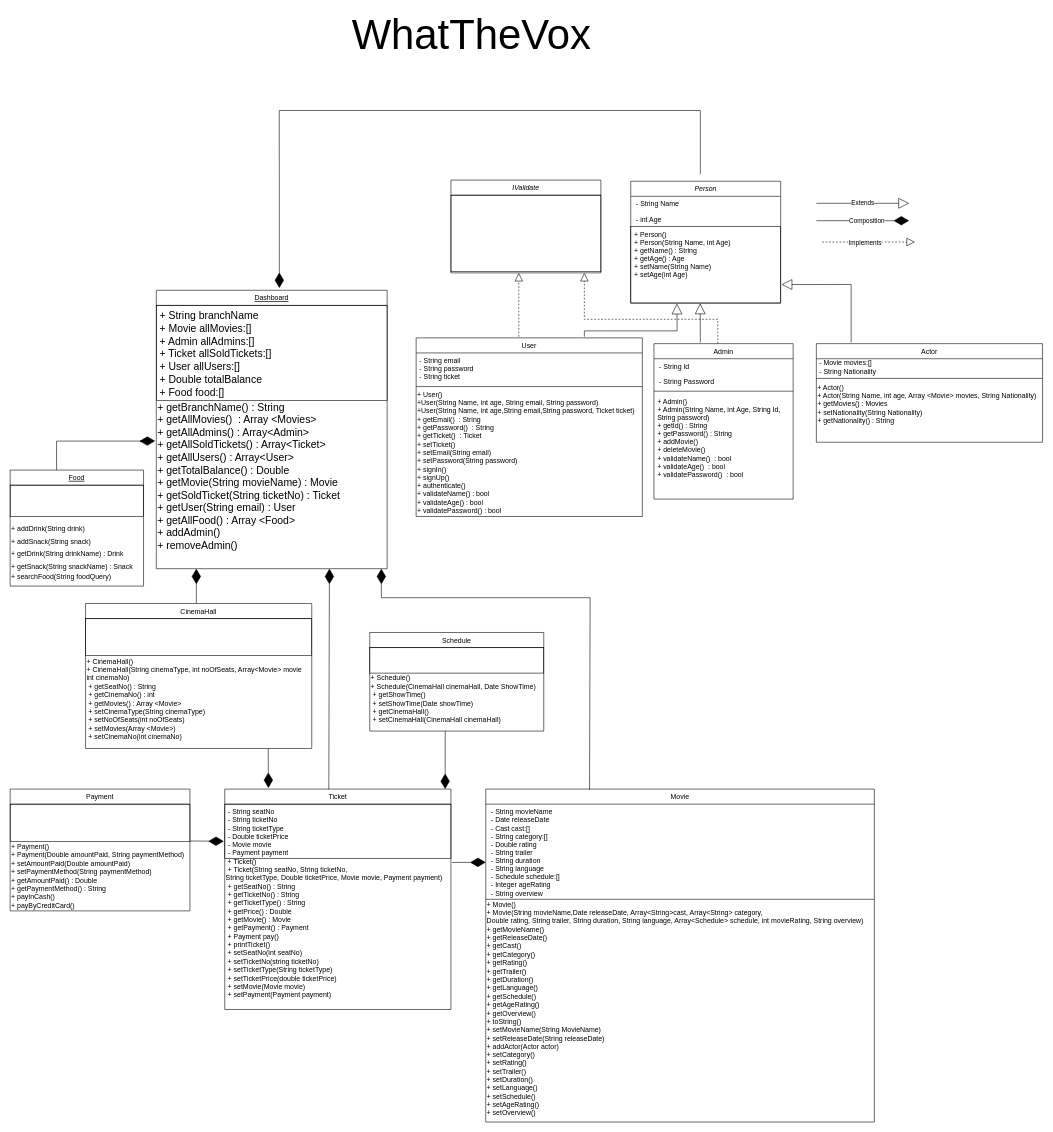
Image size: 1053x1132. Some labels were removed from this diagram. The shapes that lost their labels are listed below. From the top down, each one's centre as x and y in pixels, then its label:
At pixel 525 233: "+ validateName() + validateAge() + validatePassword()".
At pixel 77 500: "- String drinks:[] - Snack snacks:[]".
At pixel 198 637: "- String cinemaType - int noOfSeats - Movie movies:[] - int cinemaNo".
At pixel 456 660: "- CinemaHall cinemaHall - Date ShowTime".
At pixel 100 822: "- Double amountPaid - String paymentMethod".
